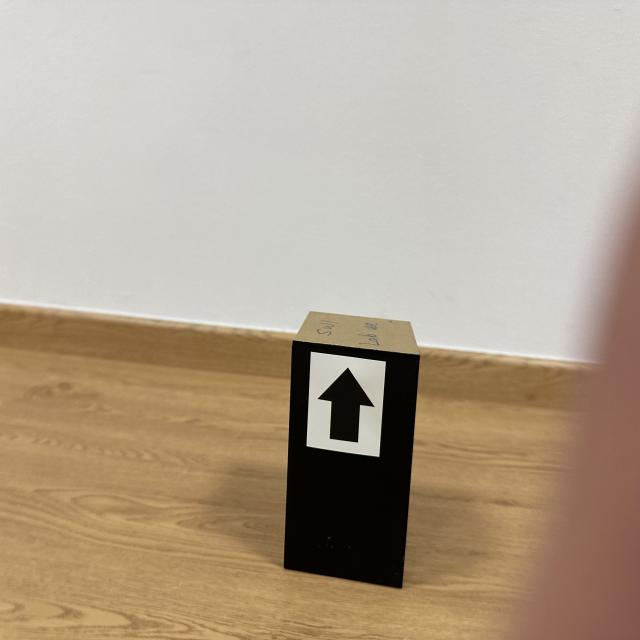UP: (319, 368, 374, 442)
